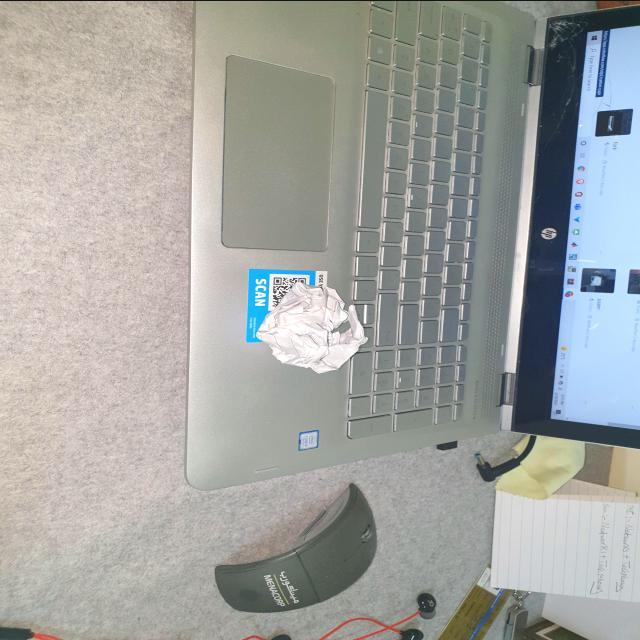Paper: (248, 274, 366, 390)
